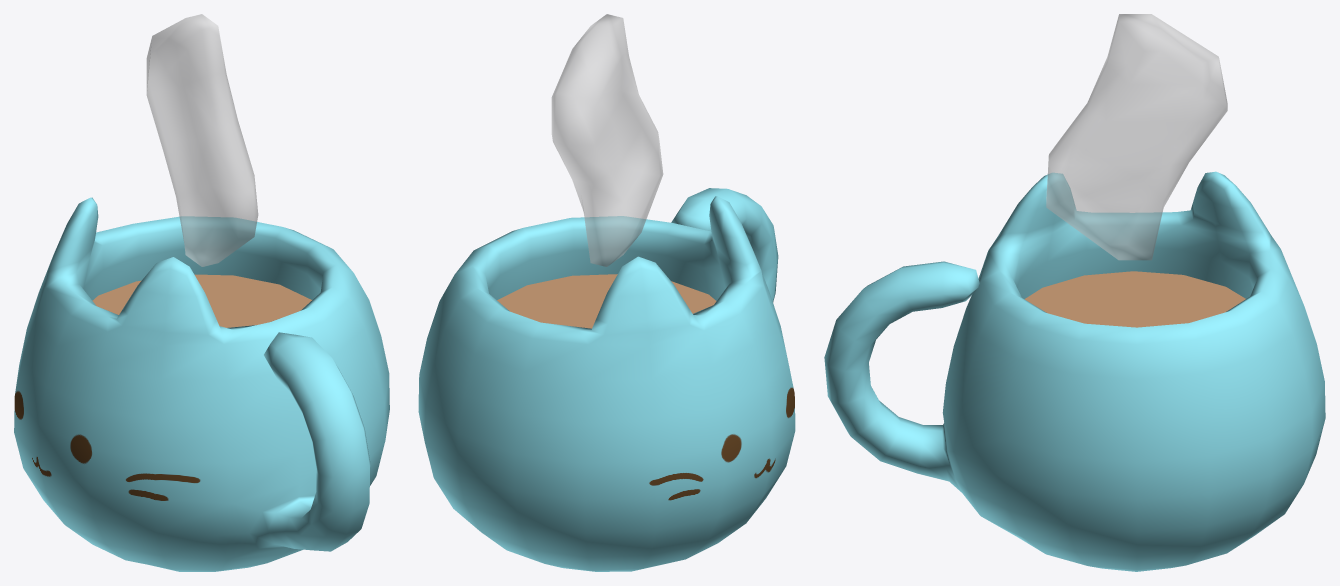
The model's file is cat_mug_smooth.fbx.
3 views of the same model, side by side, from view 1: azimuth 30°, elevation 25°; view 2: azimuth 150°, elevation 25°; view 3: azimuth 270°, elevation 25° (orthographic).
Parts seen in each view (by area): view 1: ceramic, steam2, liquid; view 2: ceramic, steam2, liquid; view 3: ceramic, steam2, liquid.
Part boxes in pixels (x1,y1,x2,y2): ceramic: [14, 197, 389, 571]; steam2: [146, 14, 258, 266]; liquid: [92, 274, 311, 327]; ceramic: [418, 188, 795, 571]; steam2: [551, 14, 663, 266]; liquid: [497, 274, 716, 328]; ceramic: [824, 171, 1325, 571]; steam2: [1046, 14, 1227, 260]; liquid: [1024, 271, 1245, 327].
Size of the model in its own units: 3.93 by 5.93 by 5.17.
Materials: 3 (1 with a texture image).
